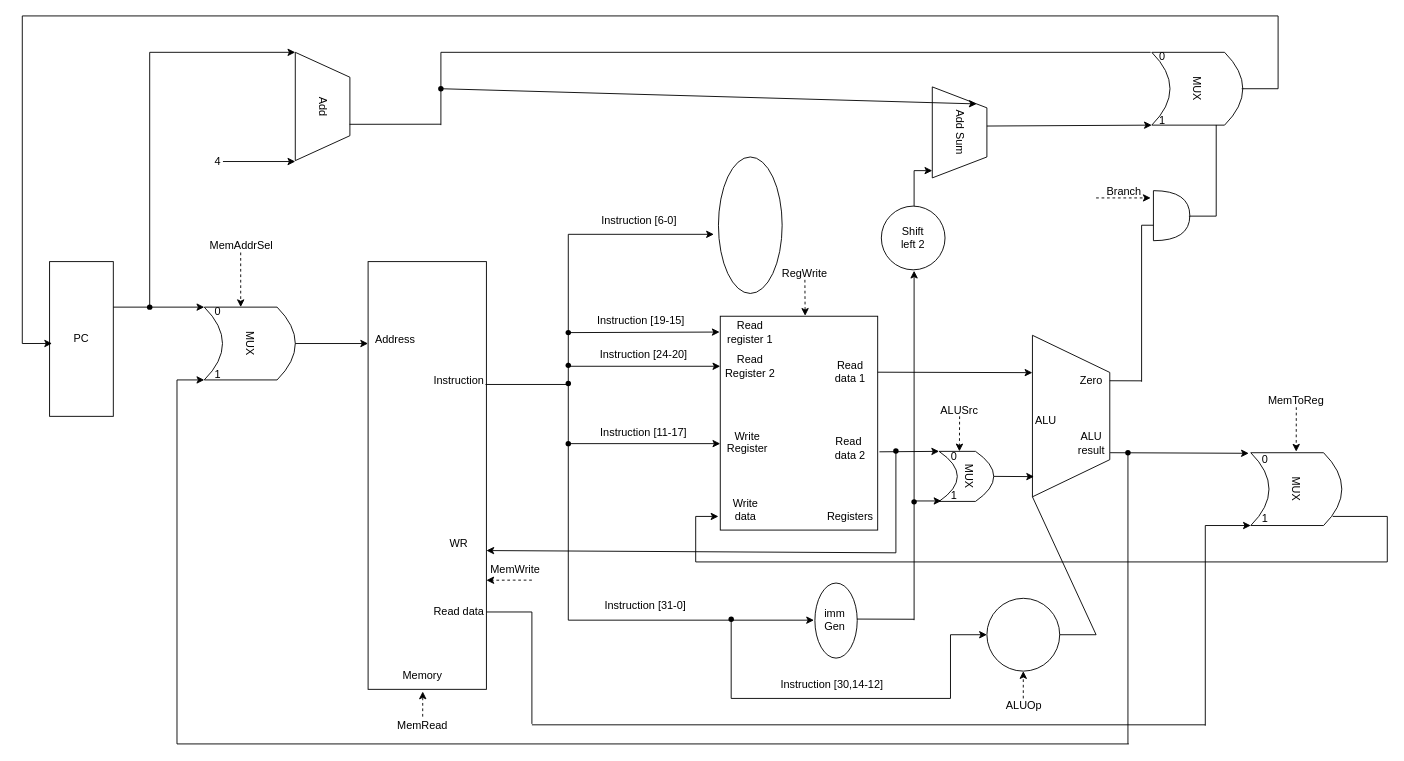
Image size: 1404x761. Some labels were removed from this diagram. The shapes that lost their labels are listed below. From the top down, each one's centre as x and y in pixels, then its label:
At (750,224): "Control Unit".
At (1171,215): "AND".
At (1023,634): "Alu Control".
